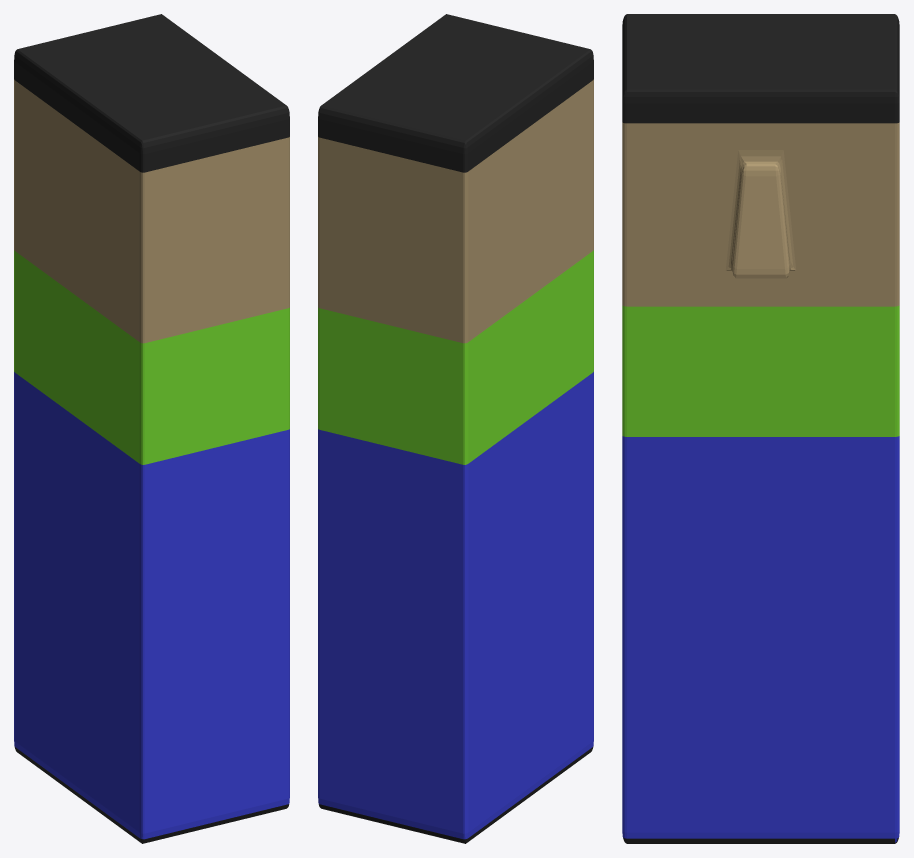
Rendered from SamScaler.fbx.
The picture shows the model from 3 angles, left to right: view 1: azimuth 30°, elevation 25°; view 2: azimuth 150°, elevation 25°; view 3: azimuth 270°, elevation 25°; orthographic projection. The views are drawn at different scales.
Visible parts, largest first — view 1: Cube; view 2: Cube; view 3: Cube.
Boxes of the visible parts, <box> form: Cube: <box>14,14,289,843</box>; Cube: <box>318,14,593,843</box>; Cube: <box>622,14,899,843</box>.
Bounding box in the file's own units: 60 × 45.4 × 180.
